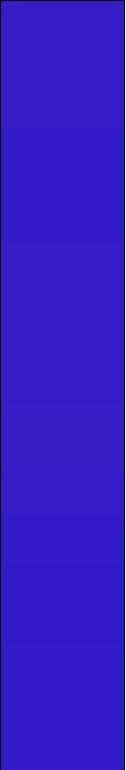safe: (16, 7, 116, 760)
